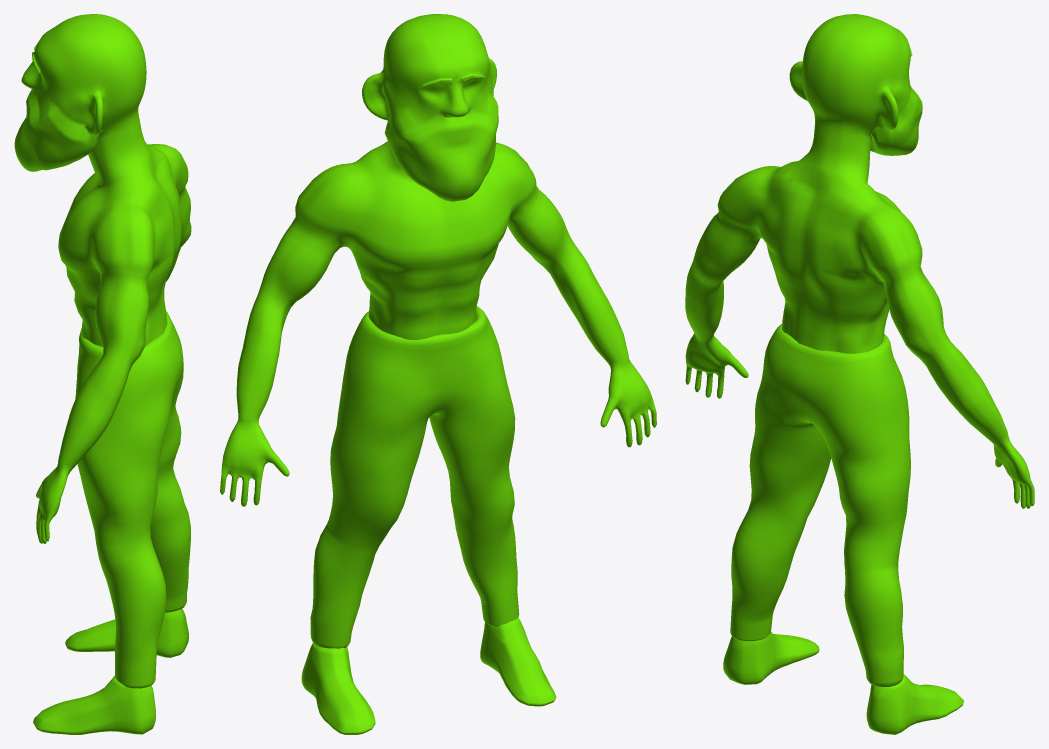
The model's file is giant1.fbx.
3 views of the same model, side by side, from view 1: azimuth 30°, elevation 25°; view 2: azimuth 150°, elevation 25°; view 3: azimuth 270°, elevation 25° (orthographic). The views are drawn at different scales.
Visible parts, largest first — view 1: giant1; view 2: giant1; view 3: giant1.
Boxes of the visible parts, bbox=[...] form: giant1: bbox=[14, 14, 191, 734]; giant1: bbox=[220, 14, 656, 734]; giant1: bbox=[685, 14, 1034, 734].
Bounding box in the file's own units: 1.89 × 4.54 × 2.16.
